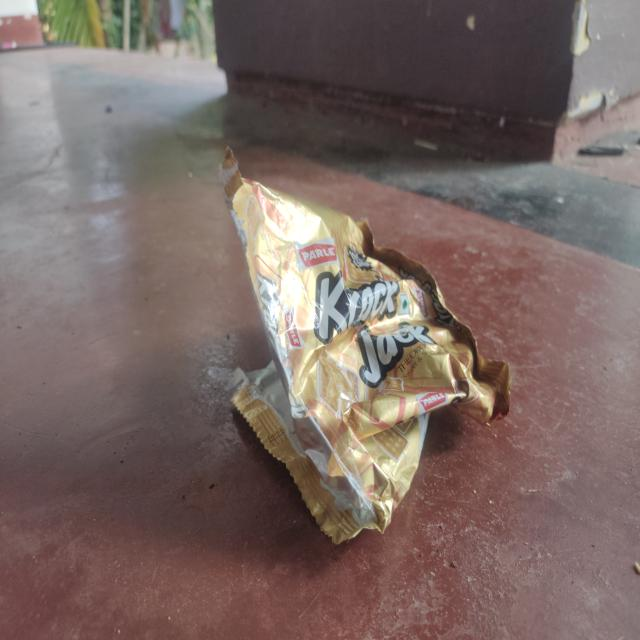plastic: (223, 148, 512, 546)
